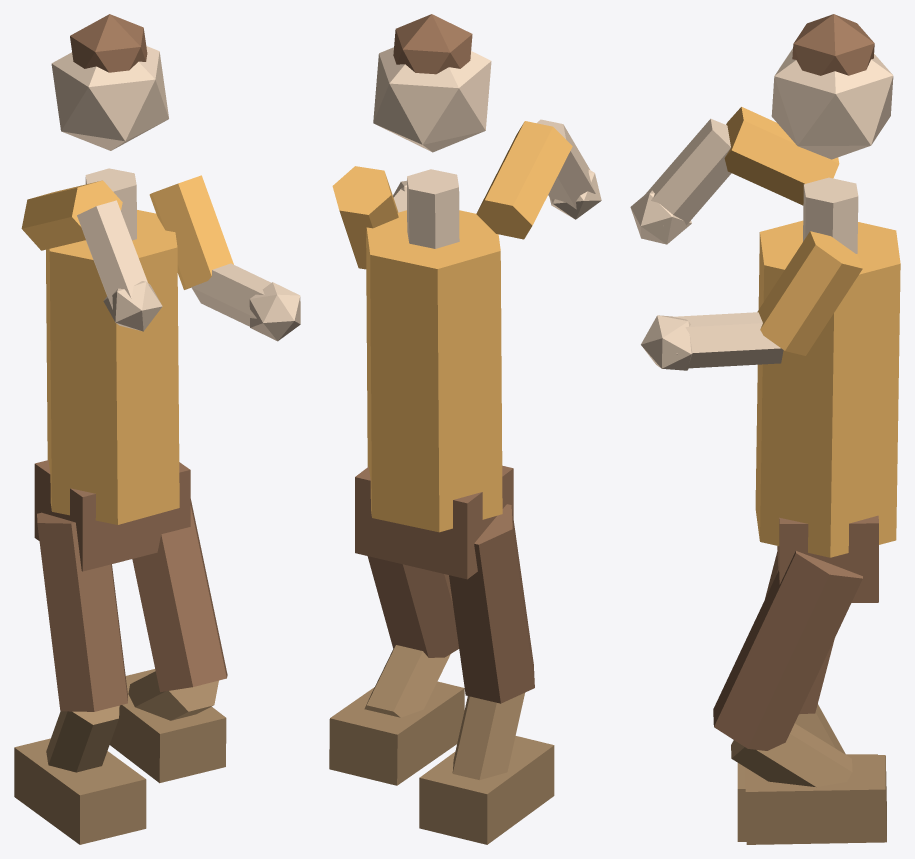
The model's file is pose_attack_1_02.glb.
The picture shows the model from 3 angles, left to right: view 1: azimuth 30°, elevation 25°; view 2: azimuth 150°, elevation 25°; view 3: azimuth 270°, elevation 25°; orthographic projection. The views are drawn at different scales.
Visible parts, largest first — view 1: pose; view 2: pose; view 3: pose.
Part boxes in pixels (x1,y1,x2,y2): pose: (14,14,300,844); pose: (329,14,601,844); pose: (630,14,900,844).
Size of the model in its own units: 0.4311 by 1.57 by 0.4625.
